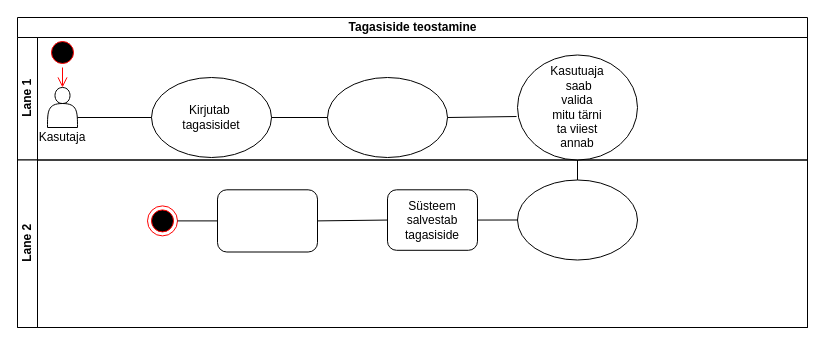
The diagram is 825 pixels wide and 345 high, and some of its shapes have lost their labels. Each missing label, with the centre of its shape:
Kasutaja saadab tagasiside ära: point 577,219
Saab anda ka reitingut: point 387,117
Süsteem edastab tagasiside isikule kes vaatab neid üle: point 267,220
